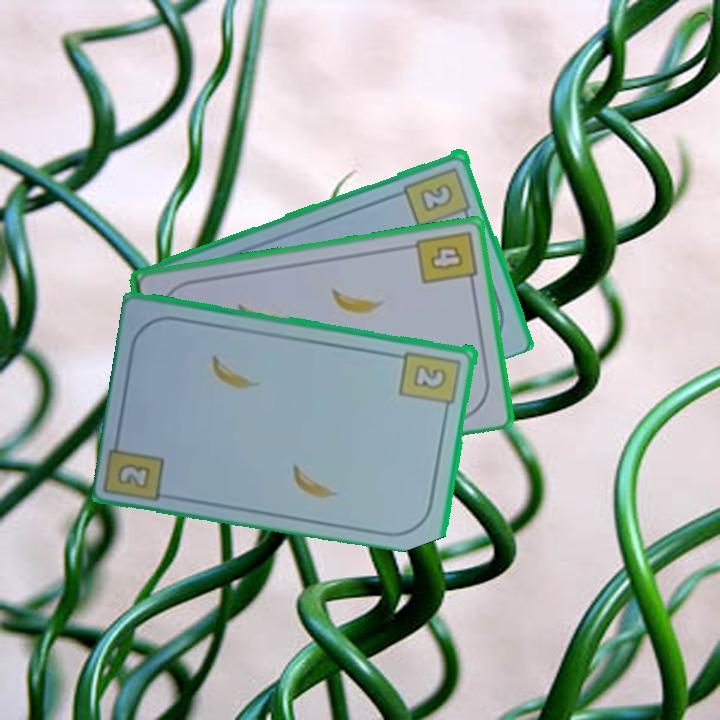2b: (401, 163, 474, 230), (397, 347, 464, 416), (113, 459, 154, 492)
4b: (412, 226, 480, 291)
